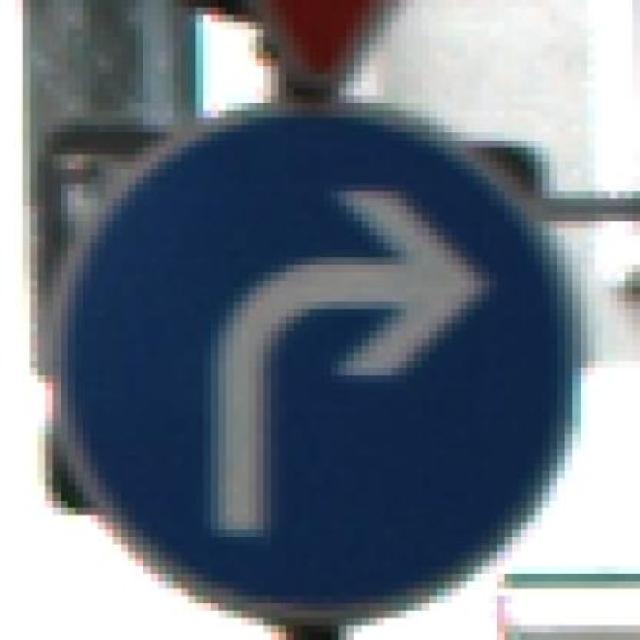Turn right ahead: (30, 89, 595, 633)
